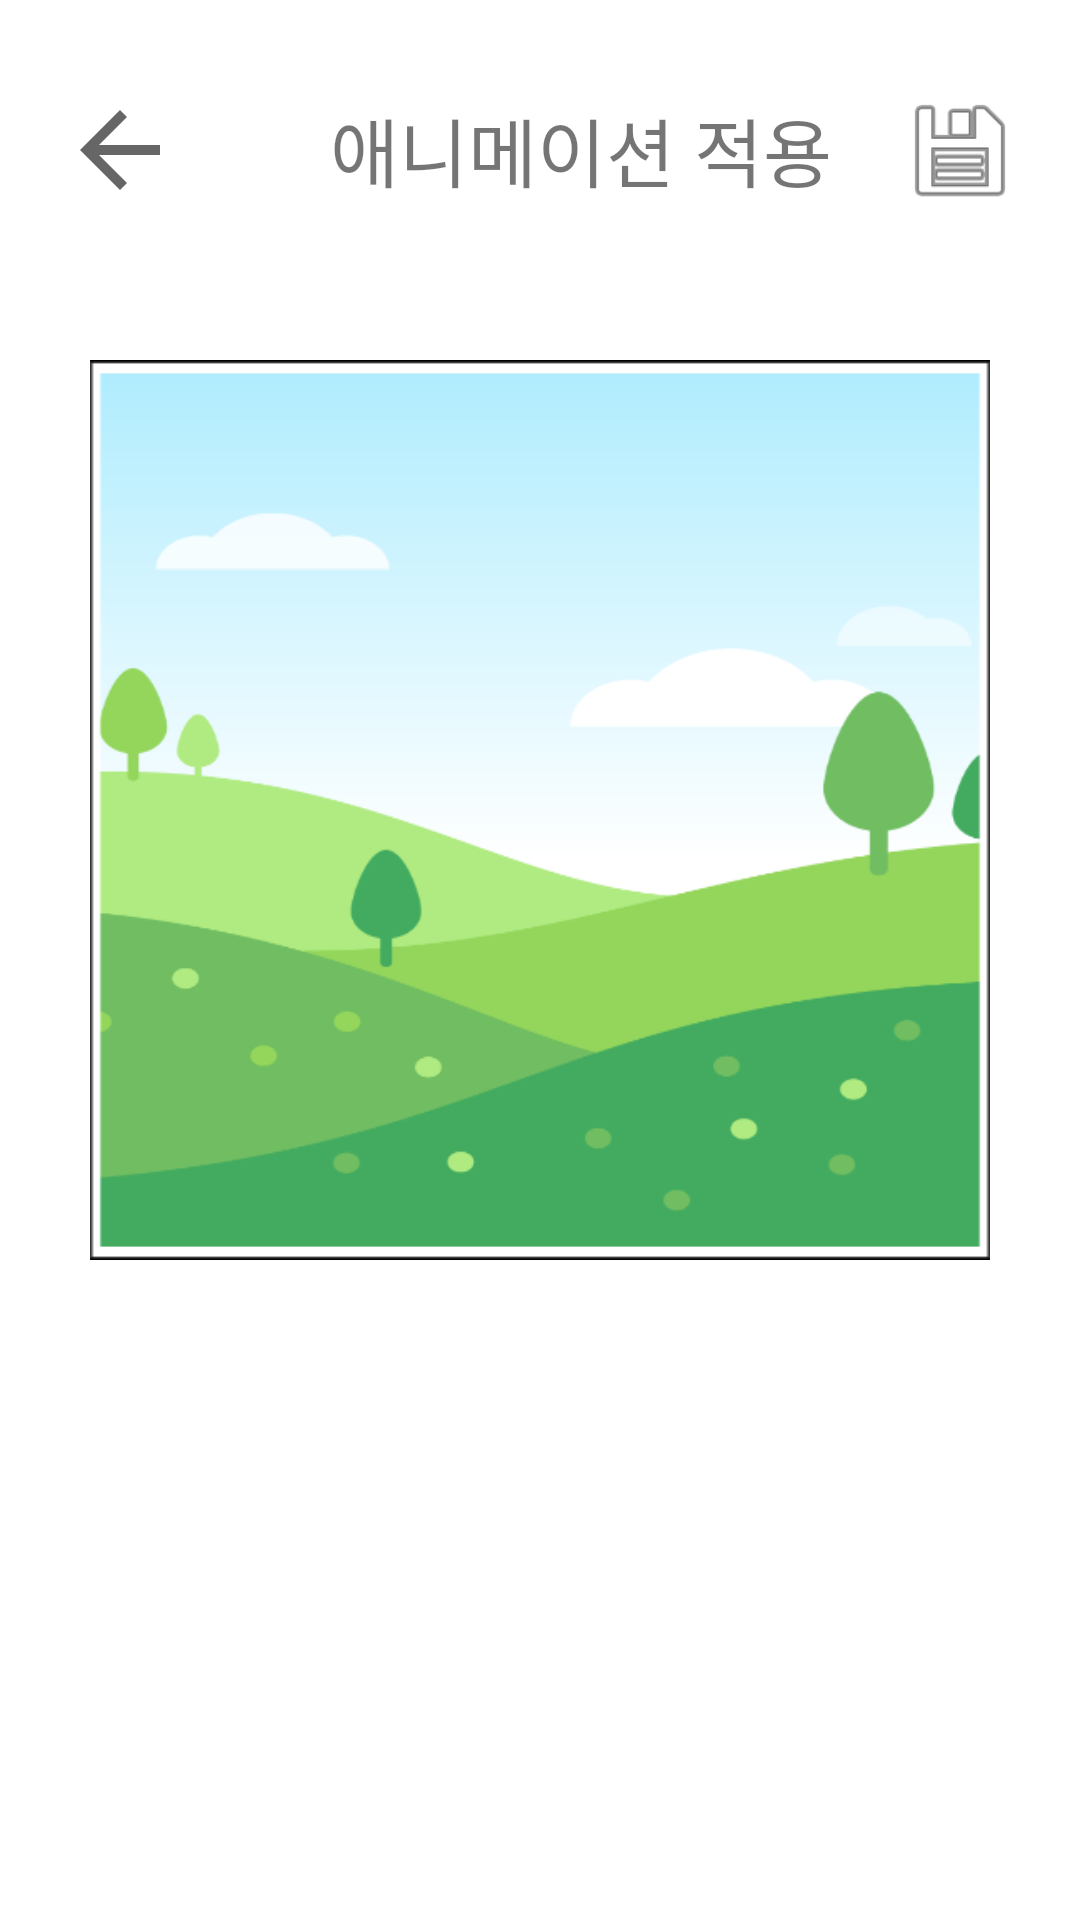

Locate icon controls on the screen. Image size 1080w x 1920h, boxes as (x1, y1, x2, y2).
save: (915, 105, 1005, 197)
